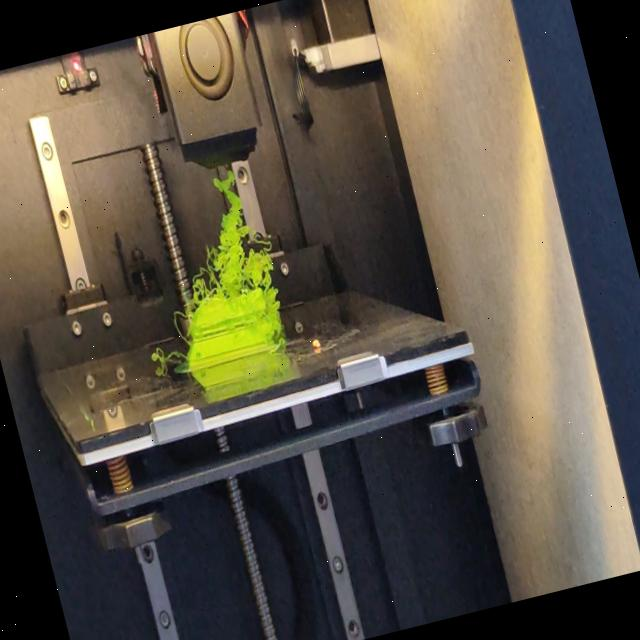spaghetti: (160, 166, 278, 312), (267, 294, 291, 352), (168, 306, 190, 351), (145, 342, 180, 367)
